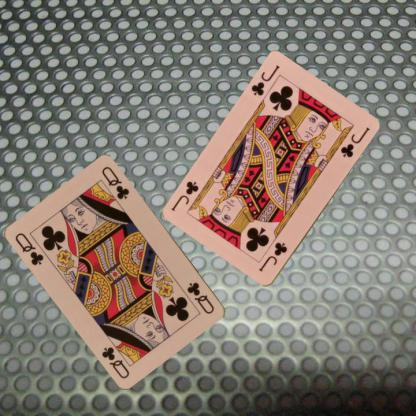Jc: (248, 63, 282, 98), (256, 240, 289, 274)
Qc: (13, 230, 45, 267), (184, 280, 216, 315)
